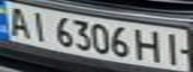0: (87, 20, 112, 56)
3: (69, 18, 93, 52)
6: (48, 15, 75, 48), (109, 24, 133, 60)
A: (3, 3, 33, 38)
H: (133, 27, 166, 63)
I: (24, 9, 54, 43), (160, 29, 187, 66)
